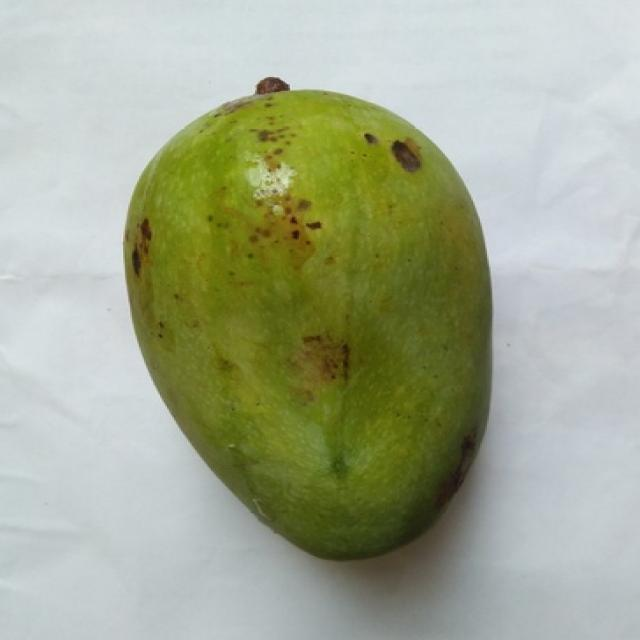Mango: (125, 78, 491, 559)
